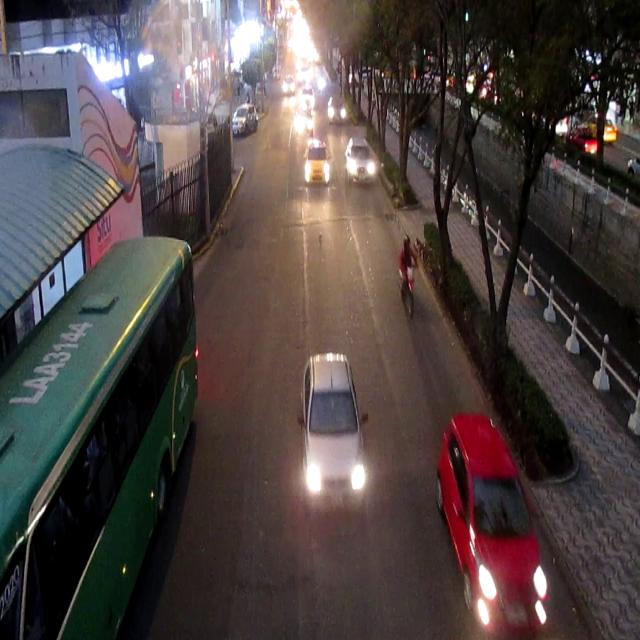BUS: (3, 238, 201, 640)
MOTORCYCLE: (401, 239, 418, 319)
SED: (300, 353, 364, 514), (306, 144, 329, 186)
SUV: (234, 106, 258, 134)
